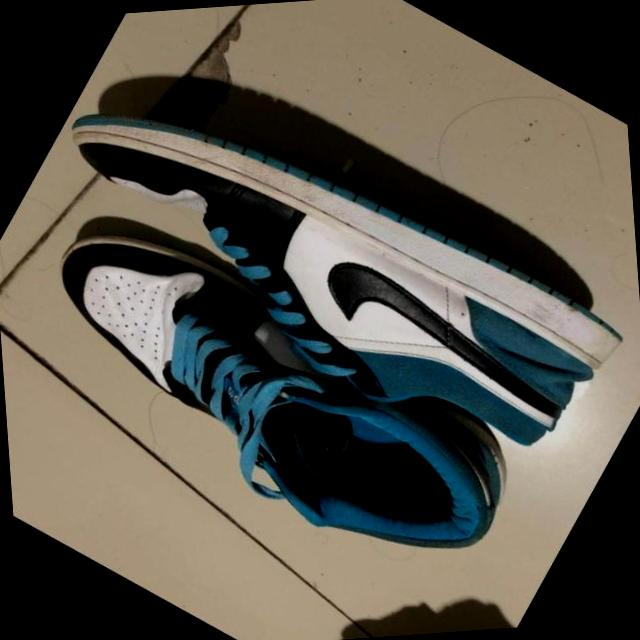nike_fake_jordan: (12, 10, 638, 525), (0, 163, 552, 632)
